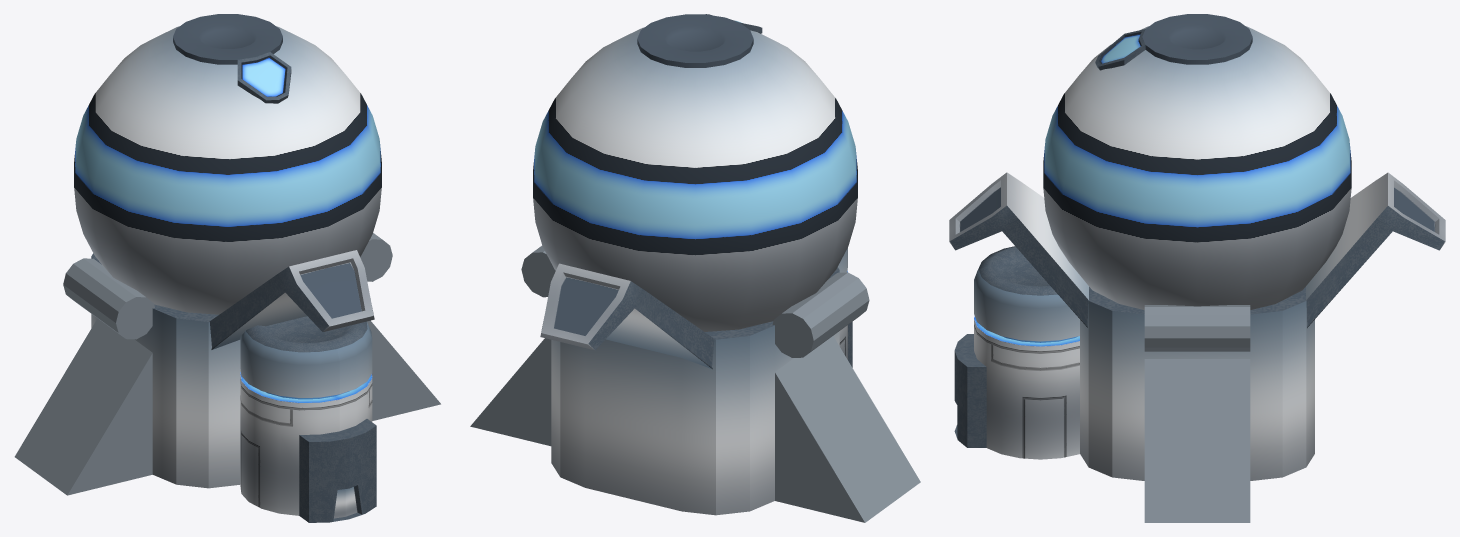
Rendered from Chemical Storage.fbx.
3 renders of one model, left to right at view 1: azimuth 30°, elevation 25°; view 2: azimuth 150°, elevation 25°; view 3: azimuth 270°, elevation 25°, orthographic. The views are drawn at different scales.
Visible parts, largest first — view 1: Tank, Front, Side_2, Base, Wing_Front, Cap, Side_tank_2, Side_1, Side_tank_1; view 2: Tank, Base, Side_2, Wing_Back, Cap, Side_1, Side_tank_2, Side_tank_1, Front; view 3: Tank, Base, Front, Side_1, Wing_Back, Wing_Front, Cap, Side_tank_1.
Part boxes in pixels (box(x1,y1,x2,y2)): Tank: box(74, 26, 381, 314); Front: box(240, 316, 376, 522); Side_2: box(14, 318, 152, 495); Base: box(91, 253, 240, 488); Wing_Front: box(209, 250, 374, 349); Cap: box(173, 14, 291, 103); Side_tank_2: box(63, 258, 154, 339); Side_1: box(367, 320, 440, 420); Side_tank_1: box(360, 233, 392, 281); Tank: box(533, 27, 857, 331); Base: box(551, 267, 839, 515); Side_2: box(775, 336, 920, 522); Wing_Back: box(540, 263, 714, 369); Cap: box(637, 14, 762, 67); Side_1: box(470, 338, 551, 446); Side_tank_2: box(772, 272, 869, 357); Side_tank_1: box(521, 245, 555, 297); Front: box(838, 248, 852, 367); Tank: box(1043, 26, 1351, 309); Base: box(1080, 287, 1314, 480); Front: box(954, 246, 1079, 459); Side_1: box(1144, 359, 1250, 522); Wing_Back: box(1306, 172, 1445, 327); Wing_Front: box(949, 172, 1088, 327); Cap: box(1095, 14, 1252, 70); Side_tank_1: box(1144, 305, 1250, 351).
Bounding box in the file's own units: 5.53 × 5.56 × 6.34.
